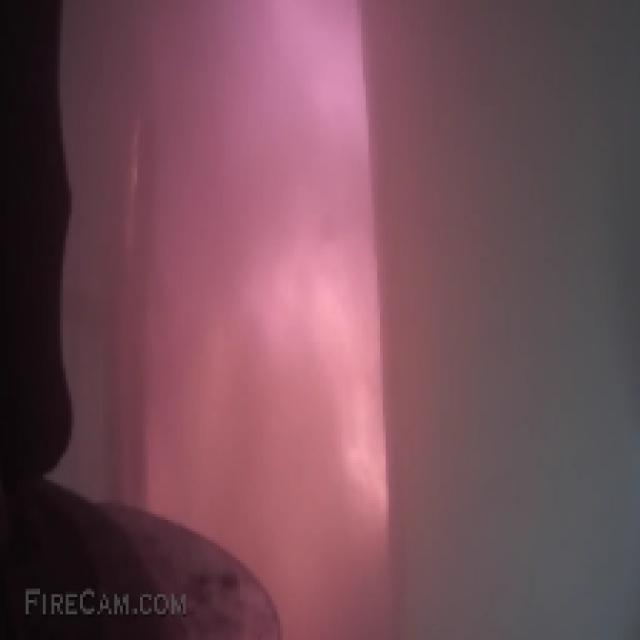Fire: (257, 8, 394, 523)
Smoke: (63, 5, 640, 638)
